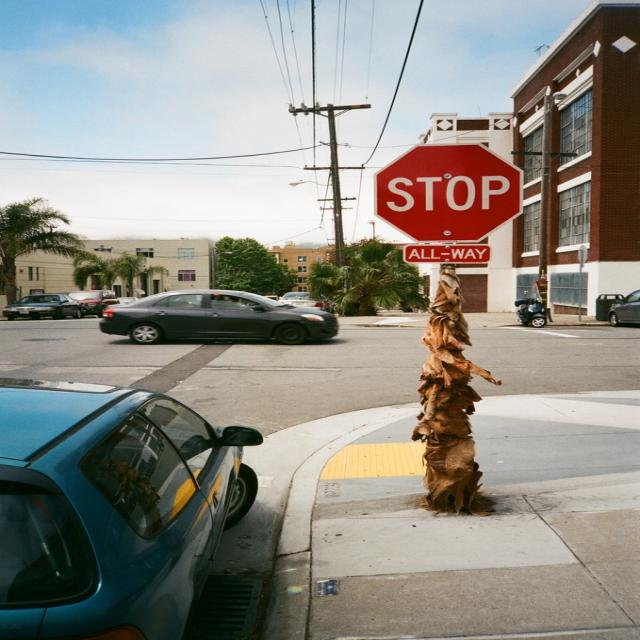Stop-sign: (372, 141, 522, 243)
